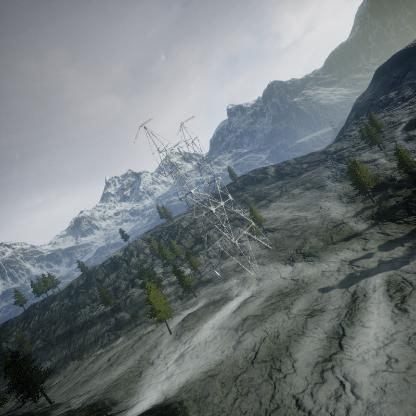tower: (132, 116, 275, 270)
